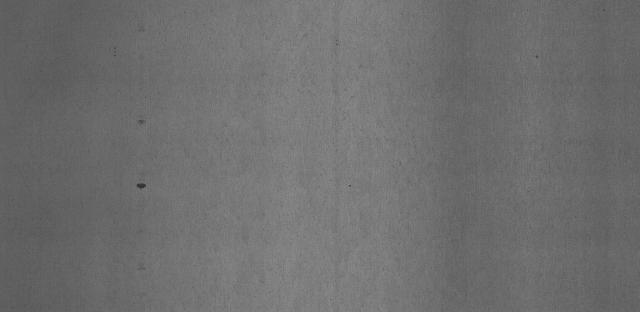oil_spot: (130, 173, 157, 199), (133, 251, 150, 274), (132, 108, 150, 125), (134, 15, 148, 32)
